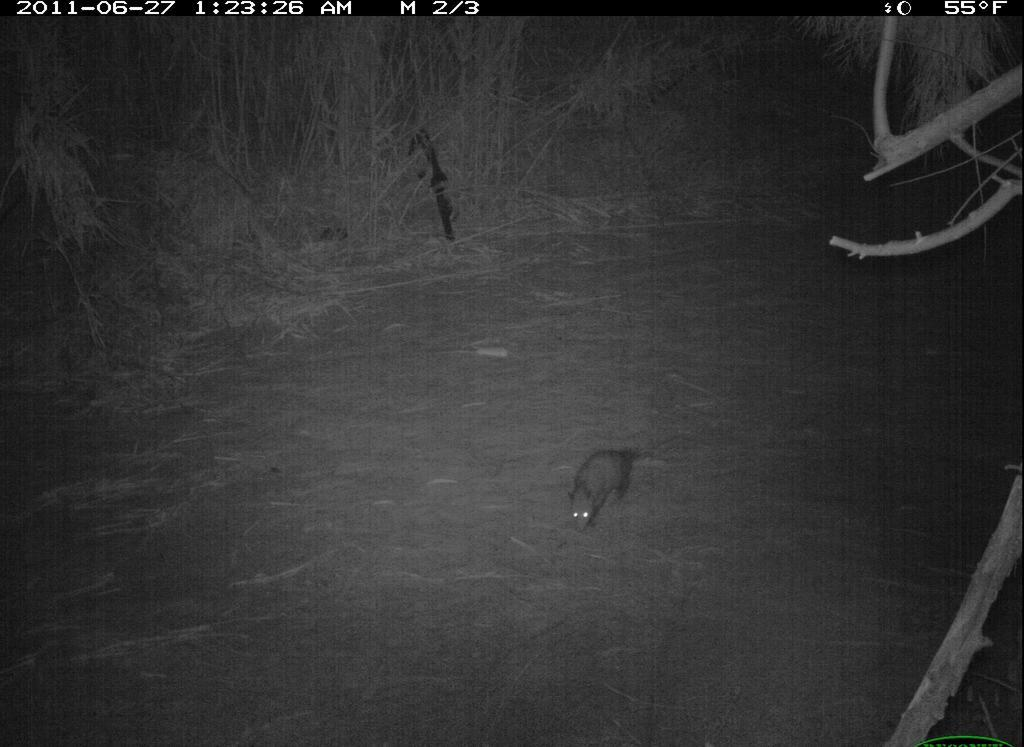opossum: (555, 431, 664, 555)
